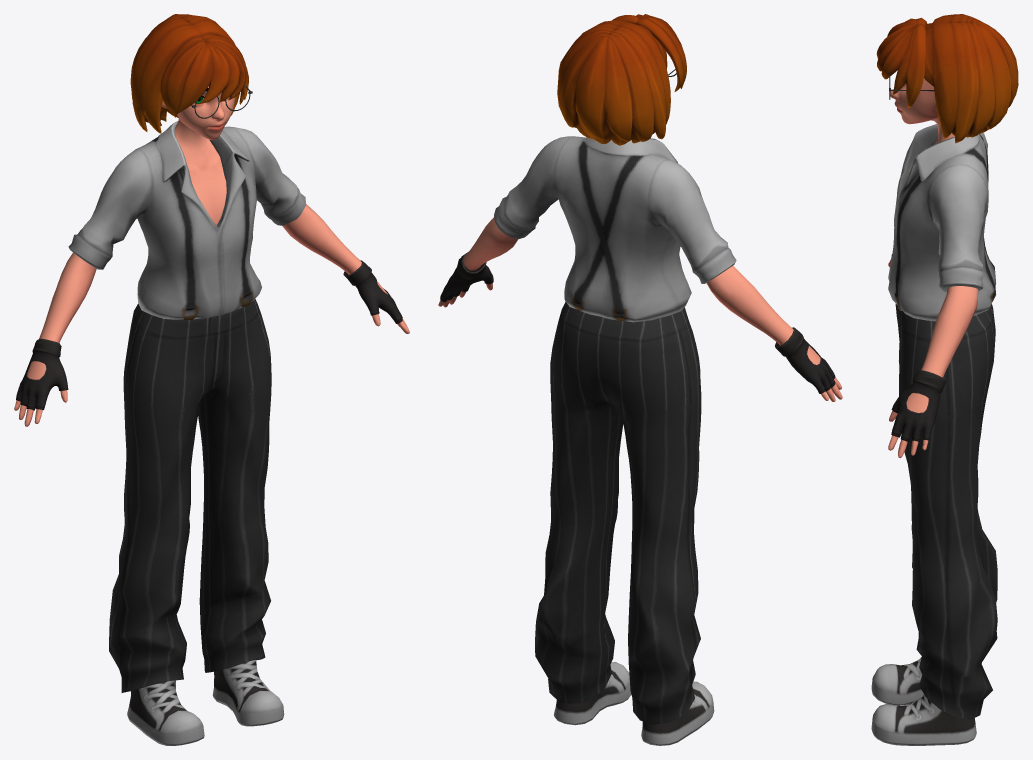
The model's file is StaffJennifer_Mesh.obj.
3 views of the same model, side by side, from view 1: azimuth 30°, elevation 25°; view 2: azimuth 150°, elevation 25°; view 3: azimuth 270°, elevation 25° (orthographic). The views are drawn at different scales.
Parts seen in each view (by area): view 1: StaffJennifer_Mesh_0; view 2: StaffJennifer_Mesh_0; view 3: StaffJennifer_Mesh_0.
Part boxes in pixels (left/top/right/bottom): StaffJennifer_Mesh_0: left=14, top=14, right=409, bottom=745; StaffJennifer_Mesh_0: left=438, top=14, right=842, bottom=745; StaffJennifer_Mesh_0: left=871, top=14, right=1018, bottom=745.
Size of the model in its own units: 1.06 by 1.81 by 0.3454.
Materials: 1 (1 with a texture image).
